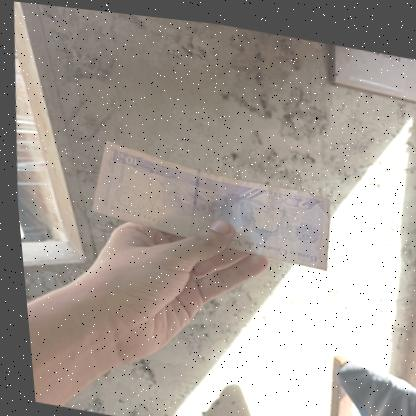ten-back-vef: (80, 135, 332, 267)
